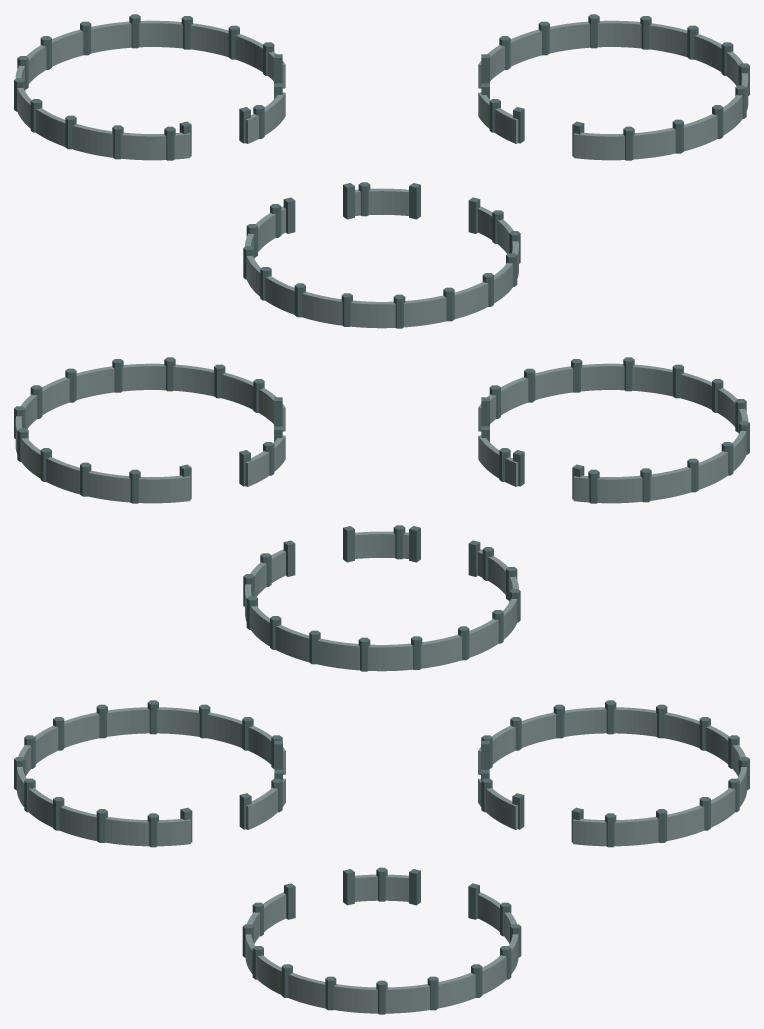
File: SM_R02B_Arena_Walls.fbx
The picture shows the model from 3 angles, top to bottom: view 1: azimuth 30°, elevation 25°; view 2: azimuth 150°, elevation 25°; view 3: azimuth 270°, elevation 25°; orthographic projection.
Parts seen in each view (by area): view 1: SM_R02B_Arena_Walls; view 2: SM_R02B_Arena_Walls; view 3: SM_R02B_Arena_Walls.
Part boxes in pixels (x1,y1,x2,y2): SM_R02B_Arena_Walls: (14, 14, 749, 328); SM_R02B_Arena_Walls: (14, 357, 749, 671); SM_R02B_Arena_Walls: (14, 700, 749, 1014).
Size of the model in its own units: 6183 by 6760 by 320.
